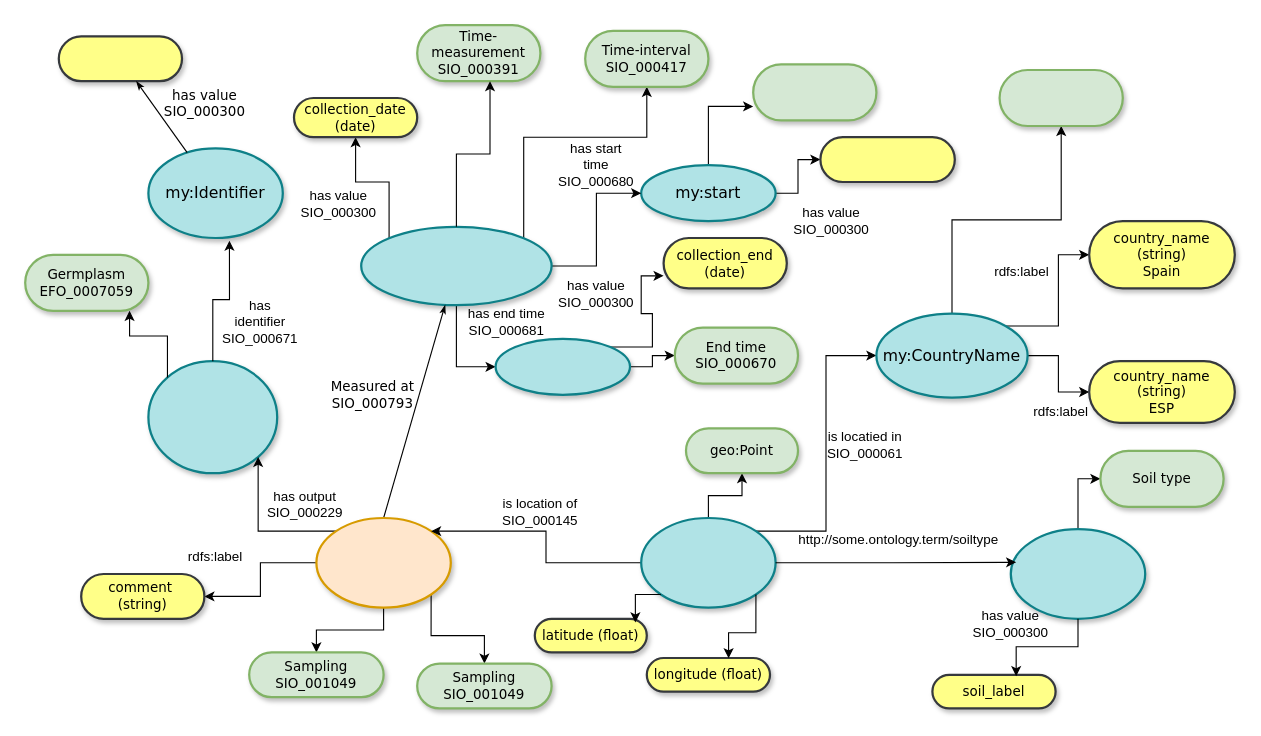
This 1261x736 diagram has some shape labels left out. The centre of each missing label's shape, as x and y in pixels:
BGV123 (string): (121,60)
collection_start (date): (888,160)
Country SIO_000664: (1061,99)
my:end: (563,368)
my:GeoLocation: (709,564)
my:Germplasm: (213,418)
my:Soil_type: (1078,575)
my:timeofobservation: (457,267)
Start time SIO_000669: (815,93)
this:$(bgvid)# Collection: (384,564)
